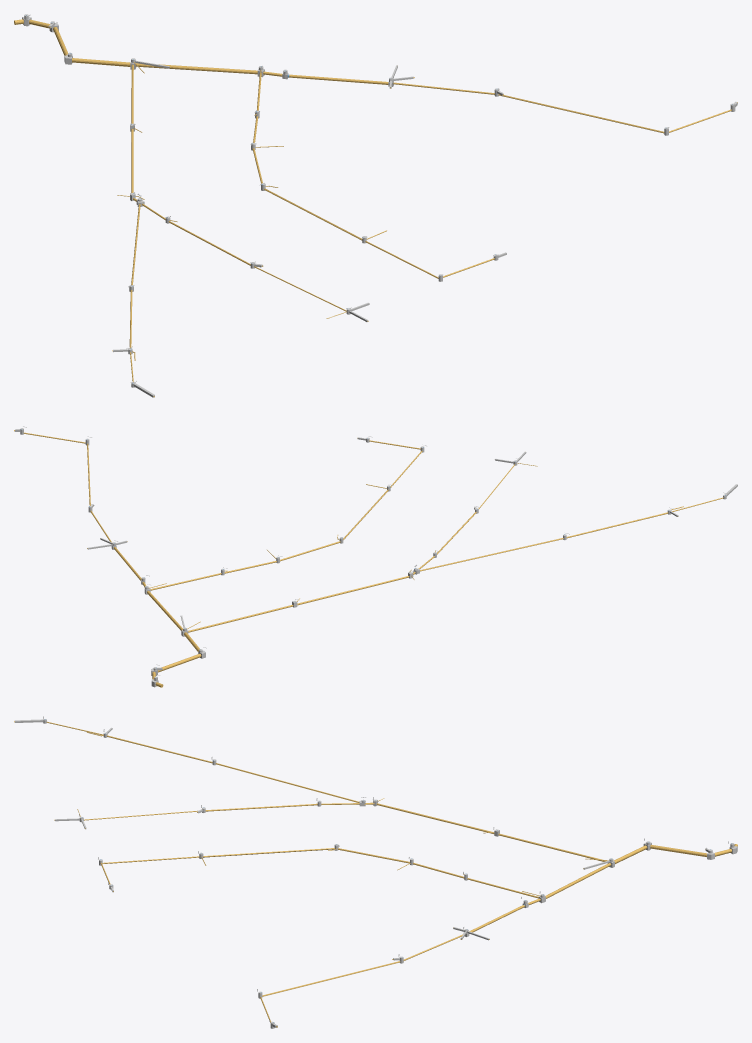
Rendered from 500125-CSSP001-000-XX-MD-BM-000022.glb.
3 renders of one model, top to bottom at view 1: azimuth 30°, elevation 25°; view 2: azimuth 150°, elevation 25°; view 3: azimuth 270°, elevation 25°, orthographic. The views are drawn at different scales.
Bounding box in the file's own units: 375 × 6.99 × 372.
